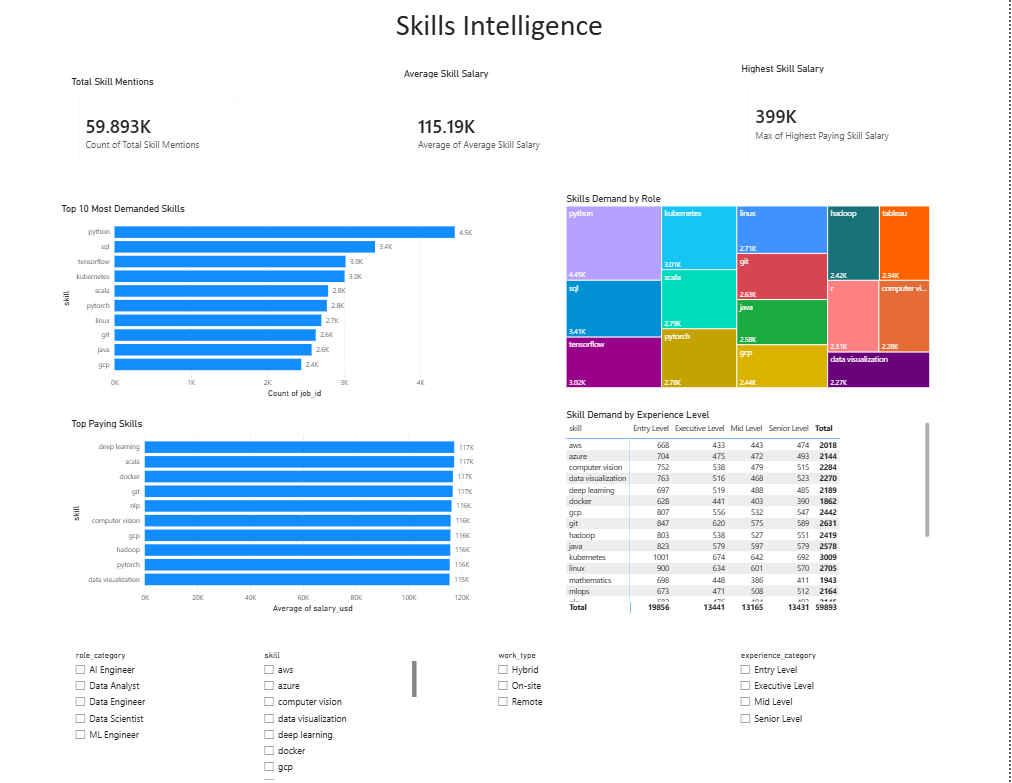

The dashboard page shown, as its layout file describes it:
{"tool":"powerbi","page":{"name":"Page 3","canvas":[1800,1400],"ordinal":2},"visuals":[{"type":"textbox","box":[-8,16,1808,128],"z":0},{"type":"clusteredBarChart","title":"Top 10 Most Demanded Skills","fields":{"Y":["CountNonNull(public job_skills.job_id)"],"Category":["public job_skills.skill"]},"box":[112,368,752,352],"z":1},{"type":"treemap","title":"Skills Demand by Role","fields":{"Values":["CountNonNull(public job_skills.job_id)"],"Group":["public job_skills.skill"]},"box":[1008,352,656,352],"z":2},{"type":"clusteredBarChart","title":"Top Paying Skills","fields":{"Category":["public job_skills.skill"],"Y":["Avg(public job_skills.salary_usd)"]},"box":[128,752,752,352],"z":3},{"type":"pivotTable","title":"Skill Demand by Experience Level","fields":{"Rows":["public job_skills.skill"],"Columns":["public job_skills.experience_category"],"Values":["CountNonNull(public job_skills.job_id)"]},"box":[1008,736,656,368],"z":4},{"type":"slicer","fields":{"Values":["public job_skills.skill"]},"box":[464,1160,288,240],"z":5},{"type":"slicer","fields":{"Values":["public job_skills.work_type"]},"box":[880,1160,256,240],"z":6},{"type":"slicer","fields":{"Values":["public job_skills.experience_category"]},"box":[1312,1160,240,240],"z":7},{"type":"slicer","fields":{"Values":["public job_skills.role_category"]},"box":[128,1160,224,240],"z":8},{"type":"cardVisual","title":"Total Skill Mentions","fields":{"Data":["CountNonNull(public job_skills.Total Skill Mentions)"]},"box":[128,144,320,176],"z":9},{"type":"cardVisual","title":"Average Skill Salary","fields":{"Data":["Avg(public job_skills.Average Skill Salary)"]},"box":[720,128,336,208],"z":10},{"type":"cardVisual","title":"Highest Skill Salary","fields":{"Data":["Max(public job_skills.Highest Paying Skill Salary)"]},"box":[1320,120,336,192],"z":11}]}

Visuals, with their boxes in screenshot pixels (x1, y1, x2, y2), scaled from the page's 1800x1400 canvas onto the 1012x783 screenshot:
textbox: rect(0, 9, 1011, 81)
"Top 10 Most Demanded Skills" clusteredBarChart: rect(63, 206, 486, 403)
"Skills Demand by Role" treemap: rect(567, 197, 936, 394)
"Top Paying Skills" clusteredBarChart: rect(72, 421, 495, 617)
"Skill Demand by Experience Level" pivotTable: rect(567, 412, 936, 617)
slicer - public job_skills.skill: rect(261, 649, 423, 782)
slicer - public job_skills.work_type: rect(495, 649, 639, 782)
slicer - public job_skills.experience_category: rect(738, 649, 873, 782)
slicer - public job_skills.role_category: rect(72, 649, 198, 782)
"Total Skill Mentions" cardVisual: rect(72, 81, 252, 179)
"Average Skill Salary" cardVisual: rect(405, 72, 594, 188)
"Highest Skill Salary" cardVisual: rect(742, 67, 931, 174)
